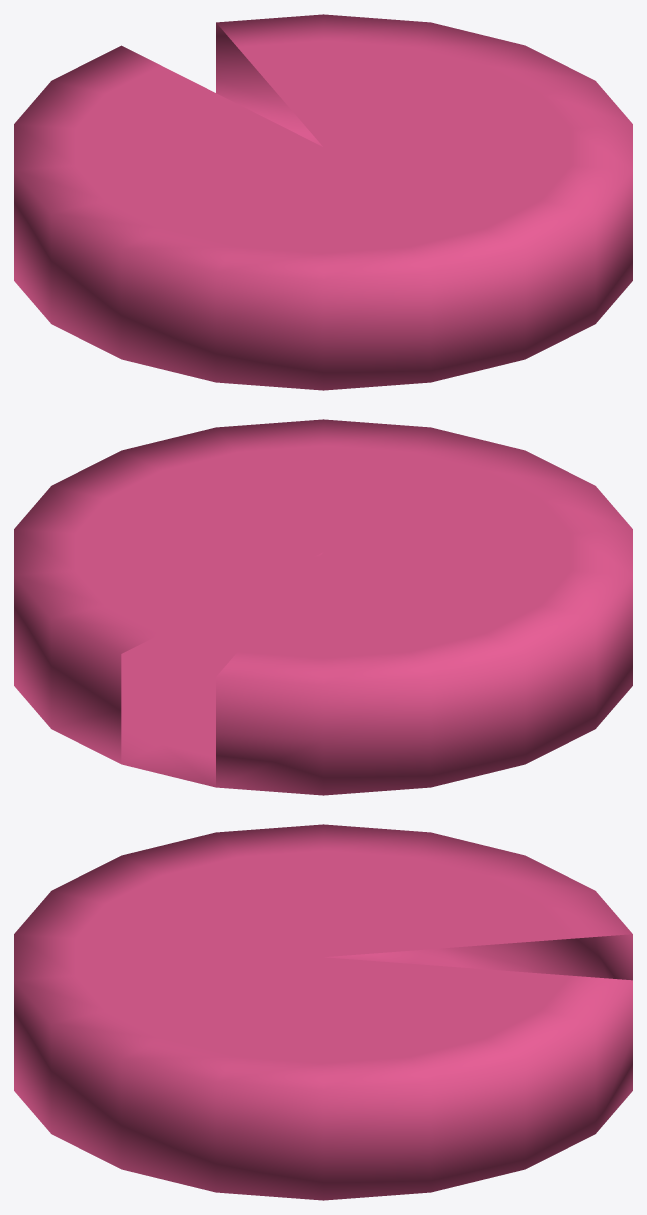
Rendered from Bottom Disc2.obj.
3 views of the same model, one above another, from view 1: azimuth 30°, elevation 25°; view 2: azimuth 150°, elevation 25°; view 3: azimuth 270°, elevation 25° (orthographic).
Parts seen in each view (by area): view 1: Bottom_Disc; view 2: Bottom_Disc; view 3: Bottom_Disc.
Boxes of the visible parts, <box> form: Bottom_Disc: <box>14,14,632,390</box>; Bottom_Disc: <box>14,419,632,795</box>; Bottom_Disc: <box>14,824,632,1200</box>.
Bounding box in the file's own units: 55.15 × 10.7 × 54.31.
